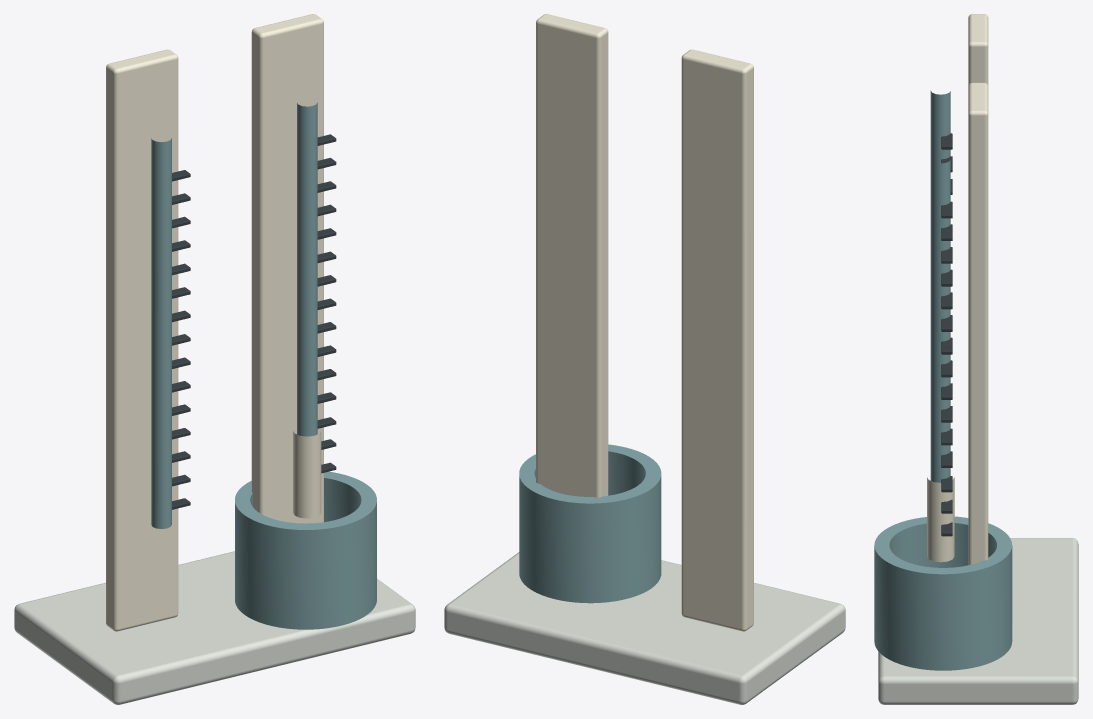
File: abandoned-weather-station-and-storm-shelter-wet-bulb-a-36e983cf__31010.glb
The picture shows the model from 3 angles, left to right: view 1: azimuth 30°, elevation 25°; view 2: azimuth 150°, elevation 25°; view 3: azimuth 270°, elevation 25°; orthographic projection. The views are drawn at different scales.
Parts seen in each view (by area): view 1: wet-bulb-apparatus; view 2: wet-bulb-apparatus; view 3: wet-bulb-apparatus.
Part boxes in pixels (x1=…): wet-bulb-apparatus: x1=14, y1=14, x2=415, y2=704; wet-bulb-apparatus: x1=444, y1=14, x2=845, y2=704; wet-bulb-apparatus: x1=874, y1=14, x2=1078, y2=704.
Bounding box in the file's own units: 0.27 × 0.505 × 0.163.
